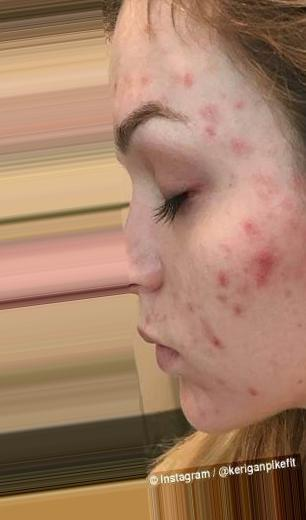Acne: (206, 96, 274, 171), (238, 216, 292, 303), (205, 262, 260, 340), (148, 46, 204, 107), (182, 318, 240, 370)
